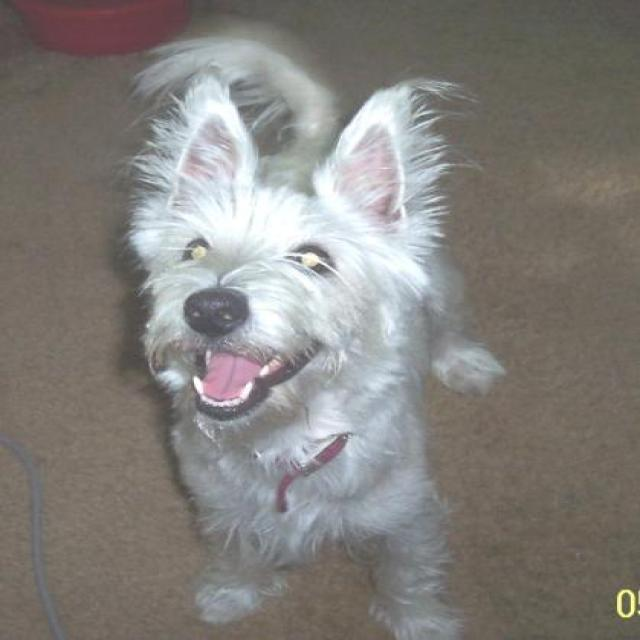Dogs: (120, 31, 506, 638)
